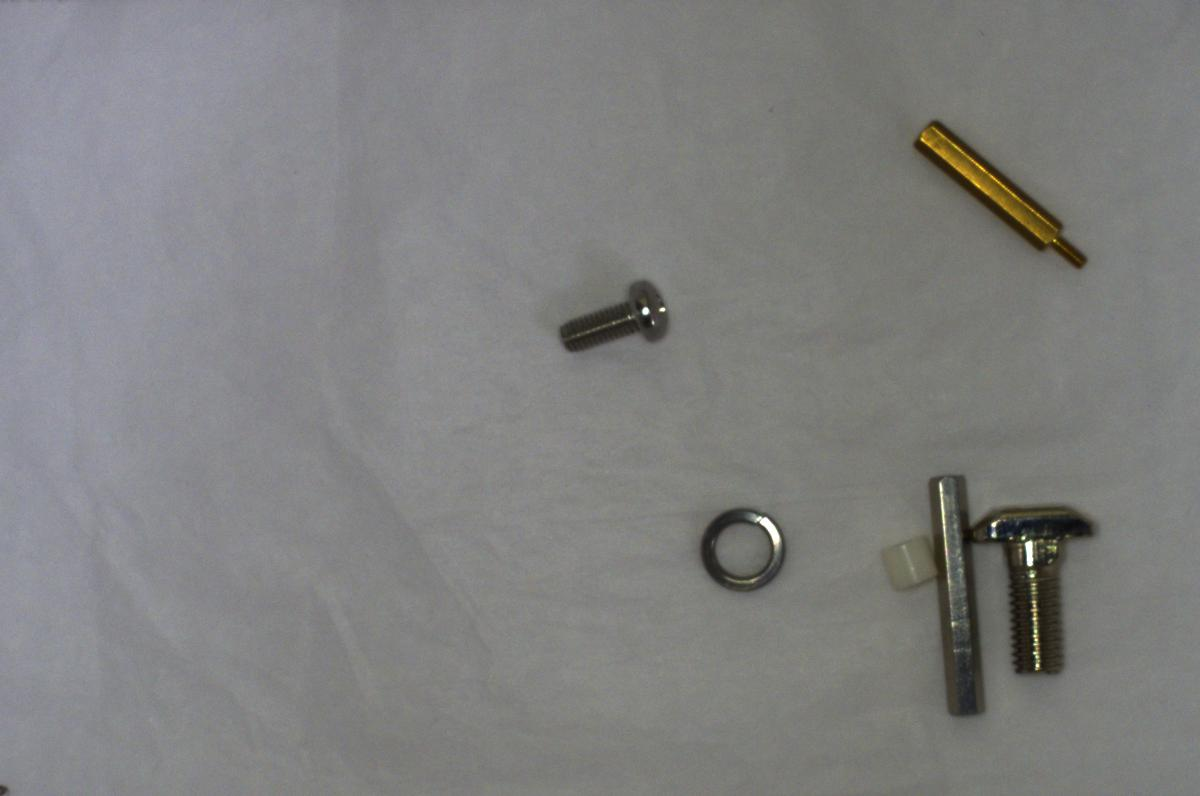Double hexagonal column: (926, 468, 991, 726)
Hexagon pillar: (910, 119, 1097, 270)
Plastic cushion pillar: (861, 523, 940, 598)
Round head screw: (554, 276, 674, 355)
Spring washer: (690, 499, 787, 595)
